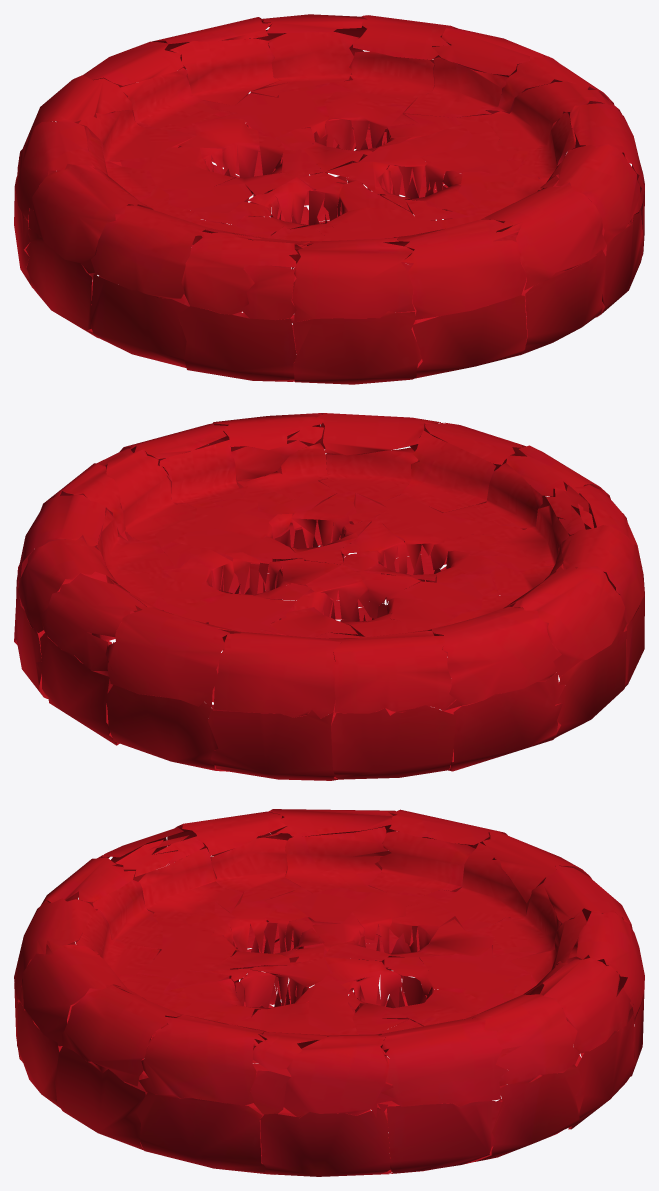
File: button.glb
3 views of the same model, one above another, from view 1: azimuth 30°, elevation 25°; view 2: azimuth 150°, elevation 25°; view 3: azimuth 270°, elevation 25° (orthographic).
Visible parts, largest first — view 1: button; view 2: button; view 3: button.
Part boxes in pixels (bbox=[...]): button: bbox=[14, 14, 644, 384]; button: bbox=[14, 413, 644, 780]; button: bbox=[14, 809, 644, 1176].
Bounding box in the file's own units: 0.03 × 0.00678 × 0.03.
Materials: 1 (1 with a texture image).
